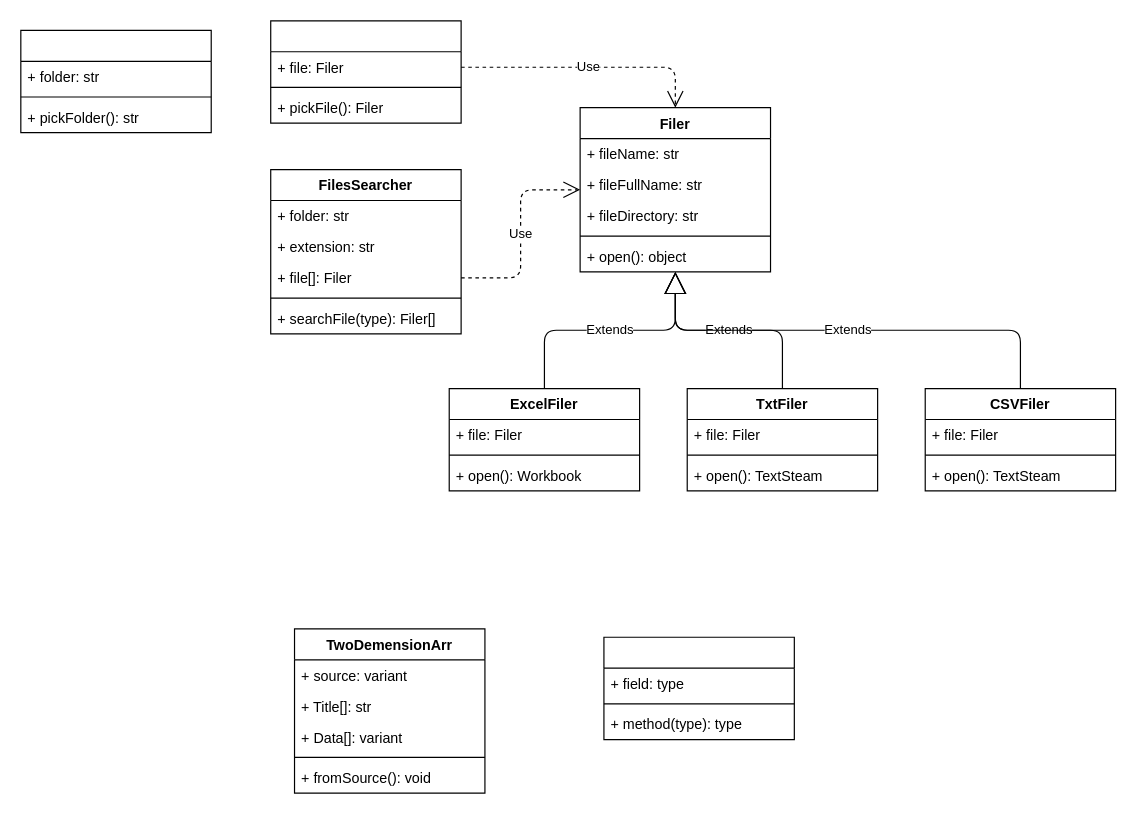
The diagram is 1136 pixels wide and 818 high, and some of its shapes have lost their labels. Each missing label, with the box of its shape:
DataSource: (603, 636, 794, 740)
FilePicker: (270, 20, 461, 123)
FolderPicker: (20, 29, 211, 133)
